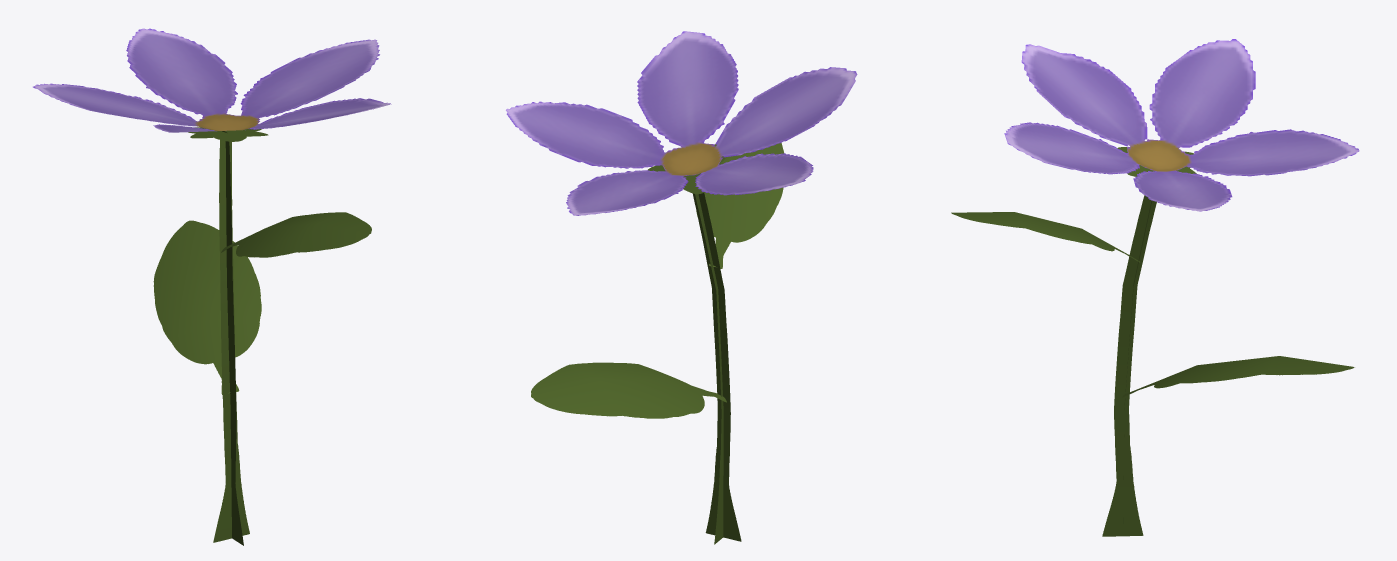
The model's file is Flower4.fbx.
3 renders of one model, left to right at view 1: azimuth 30°, elevation 25°; view 2: azimuth 150°, elevation 25°; view 3: azimuth 270°, elevation 25°, orthographic. The views are drawn at different scales.
Visible parts, largest first — view 1: Flower 4; view 2: Flower 4; view 3: Flower 4.
Boxes of the visible parts, bbox=[...] form: Flower 4: bbox=[33, 28, 391, 545]; Flower 4: bbox=[506, 31, 857, 544]; Flower 4: bbox=[951, 39, 1359, 536].
Size of the model in its own units: 32.99 by 39.4 by 35.45.
